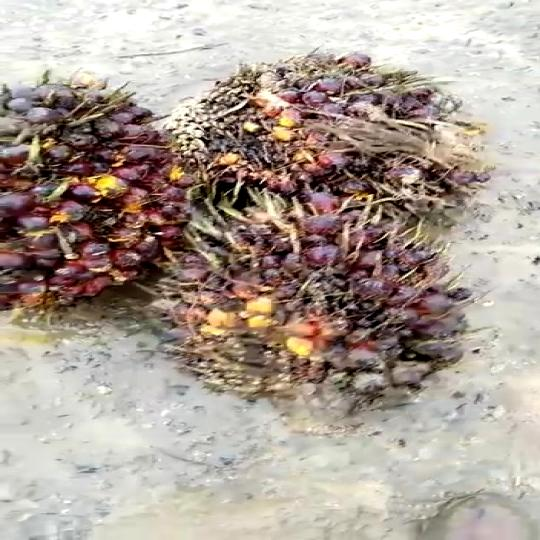kurang masak: (150, 198, 460, 425), (179, 50, 465, 241), (0, 72, 202, 306)
